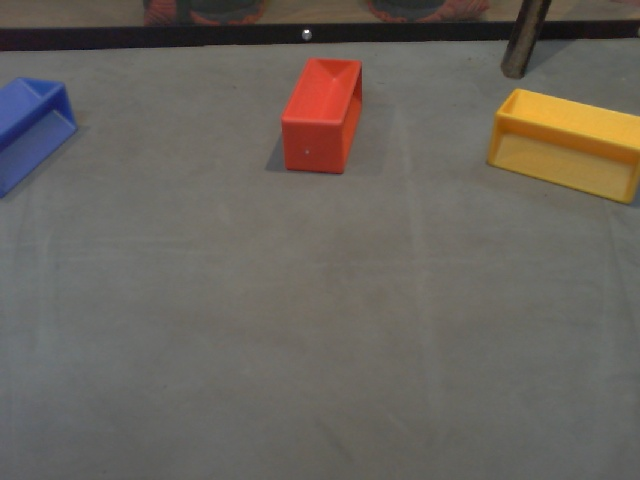BlueSample: (1, 77, 82, 206)
RedSample: (278, 52, 365, 177)
YellowSample: (482, 87, 640, 208)
